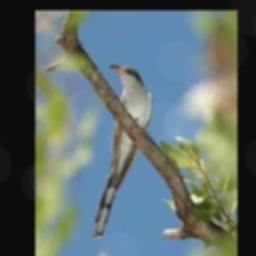Cuckoo: (92, 63, 152, 239)
